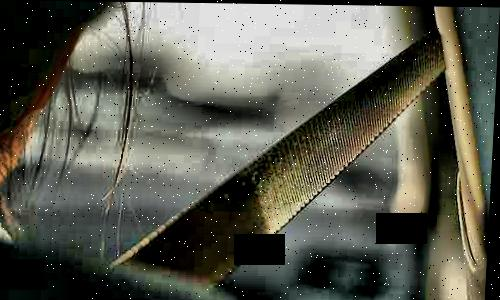seatbelt: (156, 32, 453, 257)
